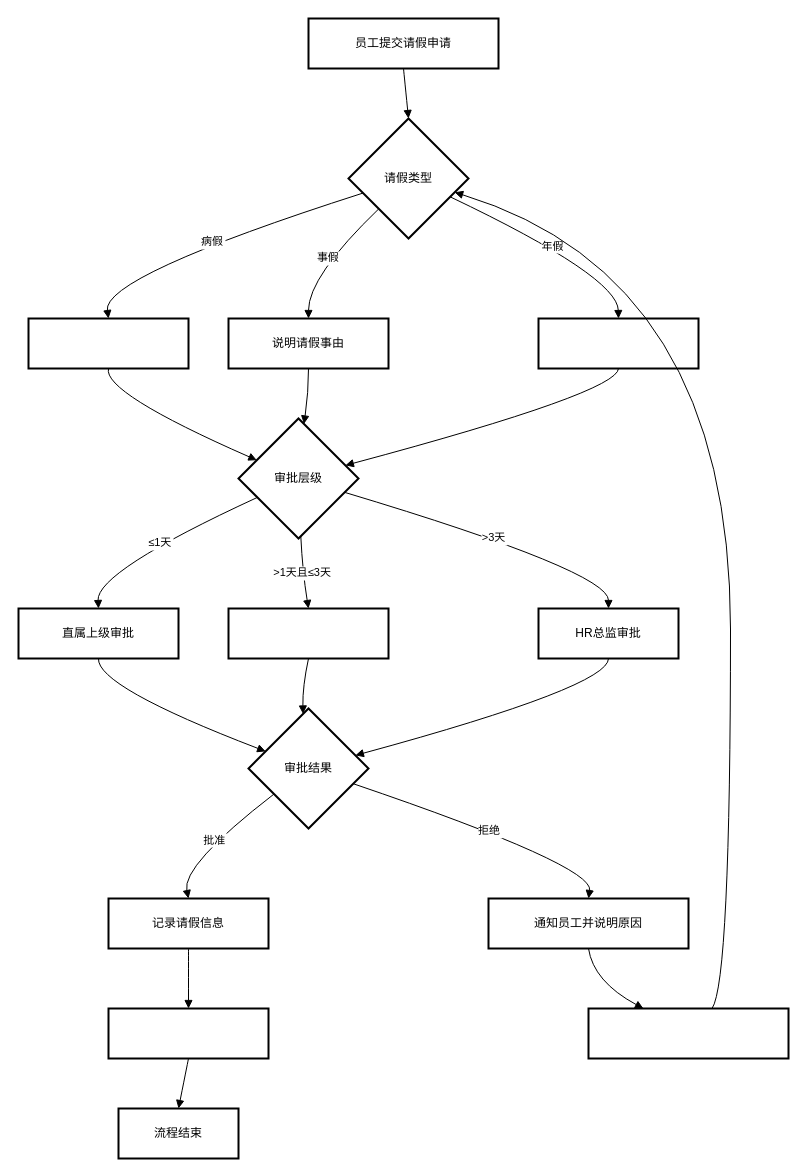
The diagram is 806 pixels wide and 1176 high, and some of its shapes have lost their labels. The shapes that lost their labels are listed below. From the top down, each one's centre as x and y in pixels, then its label:
At [108,343]: "提交医疗证明".
At [618,343]: "确认假期余额".
At [308,633]: "部门经理审批".
At [188,1033]: "更新假期余额".
At [688,1033]: "员工重新提交或取消".
